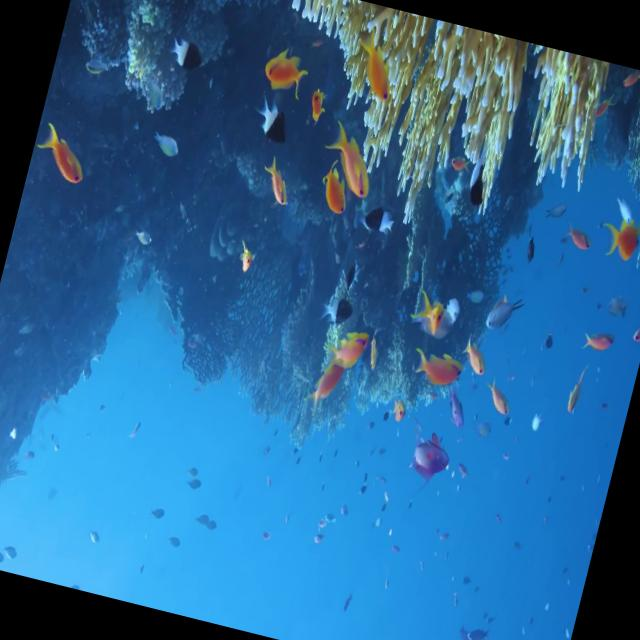fish: (316, 118, 382, 201), (31, 116, 94, 186), (258, 48, 313, 98), (407, 430, 454, 486), (322, 321, 372, 373), (409, 348, 466, 390), (258, 155, 300, 210), (316, 166, 356, 218), (250, 98, 292, 146), (599, 217, 640, 265), (166, 32, 206, 75), (456, 336, 492, 378)
